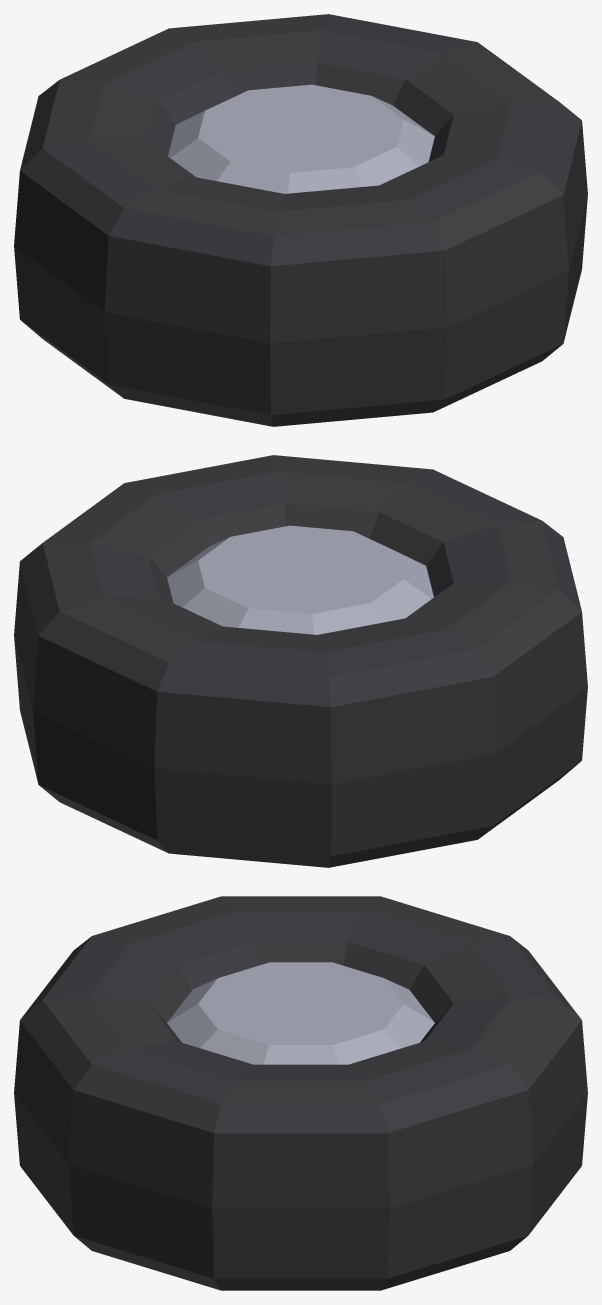
File: Tire.fbx
The picture shows the model from 3 angles, top to bottom: view 1: azimuth 30°, elevation 25°; view 2: azimuth 150°, elevation 25°; view 3: azimuth 270°, elevation 25°; orthographic projection. The views are drawn at different scales.
Visible parts, largest first — view 1: Tire; view 2: Tire; view 3: Tire.
Part boxes in pixels (bbox=[...]): Tire: bbox=[14, 14, 587, 426]; Tire: bbox=[14, 455, 587, 867]; Tire: bbox=[14, 896, 587, 1290].
Size of the model in its own units: 343 by 135 by 361.
